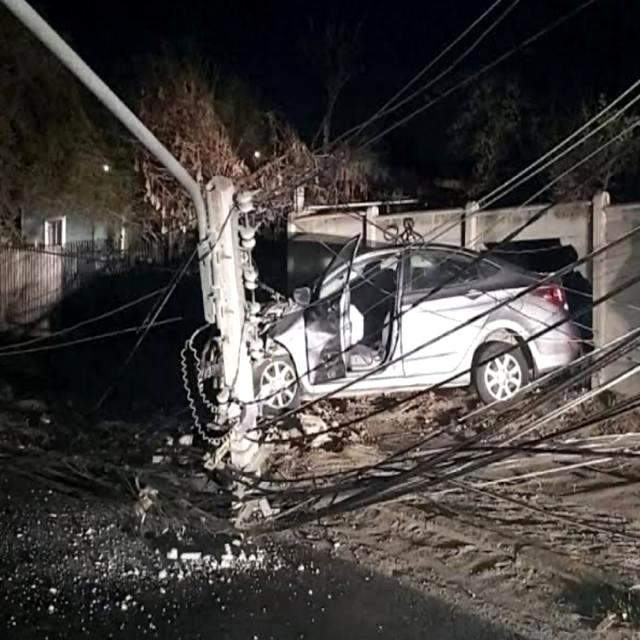Broken Pole: (8, 3, 265, 476)
